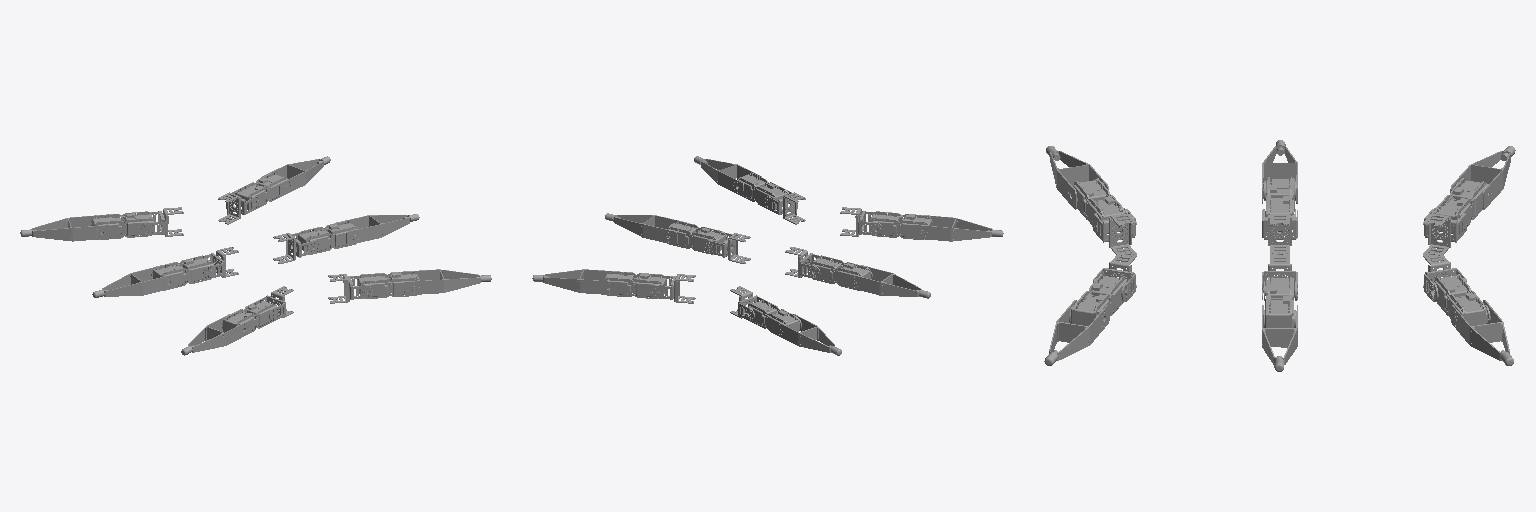
robot.urdf — hexapod:
<?xml version="1.0"?>
<robot name="hexapod">

<link name="base_link"/>
<joint name="base_link_to_hexapod_joint" type="fixed">
	<parent link="base_link"/>
	<child link="hexapod_link"/>
</joint>
	<link name="hexapod_link">
 		<visual>
			<geometry>
				<mesh filename="package://akrobat/stl/hexapod_link.stl"/>
			</geometry>
			<origin rpy="0 0 0" xyz="0 0 0"/>
			<material name="grey">
				<color rgba="0.67 0.67 0.67 1"/>
			</material>
		</visual>

	</link>
<!-- links-->
<!--.....................leg 1......................-->
	<link name="1_coxa_link">
 		<visual>
			<geometry>
				<mesh filename="package://akrobat/stl/coxa_l_link.stl"/>
			</geometry>
			<origin rpy="0 0 0" xyz="0 0 0"/>
			<material name="grey">
				<color rgba="0.67 0.67 0.67 1"/>
			</material>
		</visual>
	</link>
	<joint name="m11" type="revolute">
		<parent link="hexapod_link"/>
		<child link="1_coxa_link"/>
		<origin xyz="-0.051 0.217 0.0" rpy="0 0 2.791"/>
		<axis xyz="0 0 1"/>
		<limit effort="1000.0" lower="-0.548" upper="0.548" velocity="0.5"/>
	</joint>
	<link name="1_femur_link">
 		<visual>
			<geometry>
				<mesh filename="package://akrobat/stl/femur_link.stl"/>
			</geometry>
			<origin rpy="0 0 0" xyz="0 0 0"/>
			<material name="grey">
				<color rgba="0.67 0.67 0.67 1"/>
			</material>
		</visual>
	</link>
	<joint name="m12" type="revolute">
		<parent link="1_coxa_link"/>
		<child link="1_femur_link"/>
		<origin xyz="0.07 0.0 0.0" rpy="3.14 0 0"/>
		<axis xyz="0 1 0"/>
		<limit effort="1000.0" lower="-1.57" upper="1.57" velocity="0.5"/>
	</joint>
	<link name="1_tibia_link">
 		<visual>
			<geometry>
				<mesh filename="package://akrobat/stl/tibia_link.stl"/>
			</geometry>
			<origin rpy="0 0 0" xyz="0 0 0"/>
			<material name="grey">
				<color rgba="0.67 0.67 0.67 1"/>
			</material>
		</visual>
	</link>
	<joint name="m13" type="revolute">
		<parent link="1_femur_link"/>
		<child link="1_tibia_link"/>
		<origin xyz="0.096 0.0 0.0" rpy="0 -1.57 0"/>
		<axis xyz="0 1 0"/>
		<limit effort="1000.0" lower="-1.57" upper="1.57" velocity="0.5"/>
	</joint>
<!-- rechts-->
<!--..................leg 2...................-->
	<link name="2_coxa_link">
 		<visual>
			<geometry>
				<mesh filename="package://akrobat/stl/coxa_r_link.stl"/>
			</geometry>
			<origin rpy="0 0 0" xyz="0 0 0"/>
			<material name="grey">
				<color rgba="0.67 0.67 0.67 1"/>
			</material>
		</visual>
	</link>
	<joint name="m21" type="revolute">
		<parent link="hexapod_link"/>
		<child link="2_coxa_link"/>
		<origin xyz="0.051 0.217 0.0" rpy="0 0 3.489"/>
		<axis xyz="0 0 1"/>
		<limit effort="1000.0" lower="-0.548" upper="0.548" velocity="0.5"/>
	</joint>
 	<link name="2_femur_link">
 		<visual>
			<geometry>
				<mesh filename="package://akrobat/stl/femur_link.stl"/>
			</geometry>
			<origin rpy="0 0 0" xyz="0 0 0"/>
			<material name="grey">
				<color rgba="0.67 0.67 0.67 1"/>
			</material>
		</visual>
	</link>
	<joint name="m22" type="revolute">
		<parent link="2_coxa_link"/>
		<child link="2_femur_link"/>
		<origin xyz="-0.07 0.0 0.0" rpy="0 3.14 0"/>
		<axis xyz="0 1 0"/>
		<limit effort="1000.0" lower="-1.57" upper="1.57" velocity="0.5"/>
	</joint>
	<link name="2_tibia_link">
 		<visual>
			<geometry>
				<mesh filename="package://akrobat/stl/tibia_link.stl"/>
			</geometry>
			<origin rpy="0 0 0" xyz="0 0 0"/>
			<material name="grey">
				<color rgba="0.67 0.67 0.67 1"/>
			</material>
		</visual>
	</link>
	<joint name="m23" type="revolute">
		<parent link="2_femur_link"/>
		<child link="2_tibia_link"/>
		<origin xyz="0.096 0.0 0.0" rpy="0 -1.57 0"/>
		<axis xyz="0 1 0"/>
		<limit effort="1000.0" lower="-1.57" upper="1.57" velocity="0.5"/>
	</joint>
<!-- links-->
<!--.................. leg 3.......................-->
	<link name="3_coxa_link">
 		<visual>
			<geometry>
				<mesh filename="package://akrobat/stl/coxa_l_link.stl"/>
			</geometry>
			<origin rpy="0 0 0" xyz="0 0 0"/>
			<material name="grey">
				<color rgba="0.67 0.67 0.67 1"/>
			</material>
		</visual>
	</link>
	<joint name="m31" type="revolute">
		<parent link="hexapod_link"/>
		<child link="3_coxa_link"/>
		<origin xyz="-0.051 0.0 0.0" rpy="0 0 3.14"/>
		<axis xyz="0 0 1"/>
		<limit effort="1000.0" lower="-0.548" upper="0.548" velocity="0.5"/>
	</joint>
	<link name="3_femur_link">
 		<visual>
			<geometry>
				<mesh filename="package://akrobat/stl/femur_link.stl"/>
			</geometry>
			<origin rpy="0 0 0" xyz="0 0 0"/>
			<material name="grey">
				<color rgba="0.67 0.67 0.67 1"/>
			</material>
		</visual>
	</link>
	<joint name="m32" type="revolute">
		<parent link="3_coxa_link"/>
		<child link="3_femur_link"/>
		<origin xyz="0.07 0.0 0.0" rpy="3.14 0 0"/>
		<axis xyz="0 1 0"/>
		<limit effort="1000.0" lower="-1.57" upper="1.57" velocity="0.5"/>
	</joint>
	<link name="3_tibia_link">
 		<visual>
			<geometry>
				<mesh filename="package://akrobat/stl/tibia_link.stl"/>
			</geometry>
			<origin rpy="0 0 0" xyz="0 0 0"/>
			<material name="grey">
				<color rgba="0.67 0.67 0.67 1"/>
			</material>
		</visual>
	</link>
	<joint name="m33" type="revolute">
		<parent link="3_femur_link"/>
		<child link="3_tibia_link"/>
		<origin xyz="0.096 0.0 0.0" rpy="0 -1.57 0"/>
		<axis xyz="0 1 0"/>
		<limit effort="1000.0" lower="-1.57" upper="1.57" velocity="0.5"/>
	</joint>
<!-- rechts-->
<!--..................leg 4...................-->
	<link name="4_coxa_link">
 		<visual>
			<geometry>
				<mesh filename="package://akrobat/stl/coxa_r_link.stl"/>
			</geometry>
			<origin rpy="0 0 0" xyz="0 0 0"/>
			<material name="grey">
				<color rgba="0.67 0.67 0.67 1"/>
			</material>
		</visual>
	</link>
	<joint name="m41" type="revolute">
		<parent link="hexapod_link"/>
		<child link="4_coxa_link"/>
		<origin xyz="0.051 0.0 0.0" rpy="0 0 3.14"/>
		<axis xyz="0 0 1"/>
		<limit effort="1000.0" lower="-0.548" upper="0.548" velocity="0.5"/>
	</joint>
	<link name="4_femur_link">
 		<visual>
			<geometry>
				<mesh filename="package://akrobat/stl/femur_link.stl"/>
			</geometry>
			<origin rpy="0 0 0" xyz="0 0 0"/>
			<material name="grey">
				<color rgba="0.67 0.67 0.67 1"/>
			</material>
		</visual>
	</link>
	<joint name="m42" type="revolute">
		<parent link="4_coxa_link"/>
		<child link="4_femur_link"/>
		<origin xyz="-0.07 0.0 0.0" rpy="0 3.14 0"/>
		<axis xyz="0 1 0"/>
		<limit effort="1000.0" lower="-1.57" upper="1.57" velocity="0.5"/>
	</joint>
	<link name="4_tibia_link">
 		<visual>
			<geometry>
				<mesh filename="package://akrobat/stl/tibia_link.stl"/>
			</geometry>
			<origin rpy="0 0 0" xyz="0 0 0"/>
			<material name="grey">
				<color rgba="0.67 0.67 0.67 1"/>
			</material>
		</visual>
	</link>
	<joint name="m43" type="revolute">
		<parent link="4_femur_link"/>
		<child link="4_tibia_link"/>
		<origin xyz="0.096 0.0 0.0" rpy="0 -1.57 0"/>
		<axis xyz="0 1 0"/>
		<limit effort="1000.0" lower="-1.57" upper="1.57" velocity="0.5"/>
	</joint>
<!-- links-->
<!--..................leg 5...................-->
	<link name="5_coxa_link">
 		<visual>
			<geometry>
				<mesh filename="package://akrobat/stl/coxa_l_link.stl"/>
			</geometry>
			<origin rpy="0 0 0" xyz="0 0 0"/>
			<material name="grey">
				<color rgba="0.67 0.67 0.67 1"/>
			</material>
		</visual>
	</link>
	<joint name="m51" type="revolute">
		<parent link="hexapod_link"/>
		<child link="5_coxa_link"/>
		<origin xyz="-0.051 -0.217 0.0" rpy="0 0 3.489"/>
		<axis xyz="0 0 1"/>
		<limit effort="1000.0" lower="-0.548" upper="0.548" velocity="0.5"/>
	</joint>
	<link name="5_femur_link">
 		<visual>
			<geometry>
				<mesh filename="package://akrobat/stl/femur_link.stl"/>
			</geometry>
			<origin rpy="0 0 0" xyz="0 0 0"/>
			<material name="grey">
				<color rgba="0.67 0.67 0.67 1"/>
			</material>
		</visual>
	</link>
	<joint name="m52" type="revolute">
		<parent link="5_coxa_link"/>
		<child link="5_femur_link"/>
		<origin xyz="0.07 0.0 0.0" rpy="3.14 0 0"/>
		<axis xyz="0 1 0"/>
		<limit effort="1000.0" lower="-1.57" upper="1.57" velocity="0.5"/>
	</joint>
	<link name="5_tibia_link">
 		<visual>
			<geometry>
				<mesh filename="package://akrobat/stl/tibia_link.stl"/>
			</geometry>
			<origin rpy="0 0 0" xyz="0 0 0"/>
			<material name="grey">
				<color rgba="0.67 0.67 0.67 1"/>
			</material>
		</visual>
	</link>
	<joint name="m53" type="revolute">
		<parent link="5_femur_link"/>
		<child link="5_tibia_link"/>
		<origin xyz="0.096 0.0 0.0" rpy="0 -1.57 0"/>
		<axis xyz="0 1 0"/>
		<limit effort="1000.0" lower="-1.57" upper="1.57" velocity="0.5"/>
	</joint>

<!-- rechts-->
<!--..................leg 6...................-->
	<link name="6_coxa_link">
 		<visual>
			<geometry>
				<mesh filename="package://akrobat/stl/coxa_r_link.stl"/>
			</geometry>
			<origin rpy="0 0 0" xyz="0 0 0"/>
			<material name="grey">
				<color rgba="0.67 0.67 0.67 1"/>
			</material>
		</visual>
	</link>
	<joint name="m61" type="revolute">
		<parent link="hexapod_link"/>
		<child link="6_coxa_link"/>
		<origin xyz="0.051 -0.217 0.0" rpy="0 0 2.791"/>
		<axis xyz="0 0 1"/>
		<limit effort="1000.0" lower="-0.548" upper="0.548" velocity="0.5"/>
	</joint>
	<link name="6_femur_link">
 		<visual>
			<geometry>
				<mesh filename="package://akrobat/stl/femur_link.stl"/>
			</geometry>
			<origin rpy="0 0 0" xyz="0 0 0"/>
			<material name="grey">
				<color rgba="0.67 0.67 0.67 1"/>
			</material>
		</visual>
	</link>
	<joint name="m62" type="revolute">
		<parent link="6_coxa_link"/>
		<child link="6_femur_link"/>
		<origin xyz="-0.07 0.0 0.0" rpy="0 3.14 0"/>
		<axis xyz="0 1 0"/>
		<limit effort="1000.0" lower="-1.57" upper="1.57" velocity="0.5"/>
	</joint>
	<link name="6_tibia_link">
 		<visual>
			<geometry>
				<mesh filename="package://akrobat/stl/tibia_link.stl"/>
			</geometry>
			<origin rpy="0 0 0" xyz="0 0 0"/>
			<material name="grey">
				<color rgba="0.67 0.67 0.67 1"/>
			</material>
		</visual>
	</link>
	<joint name="m63" type="revolute">
		<parent link="6_femur_link"/>
		<child link="6_tibia_link"/>
		<origin xyz="0.096 0.0 0.0" rpy="0 -1.57 0"/>
		<axis xyz="0 1 0"/>
		<limit effort="1000.0" lower="-1.57" upper="1.57" velocity="0.5"/>
	</joint>
</robot>

--- Render facts (derived) ---
The picture shows the robot from 3 angles, left to right: view 1: azimuth 30°, elevation 25°; view 2: azimuth 150°, elevation 25°; view 3: azimuth 270°, elevation 25°; orthographic projection.
Model hexapod with 20 links and 19 joints (18 revolute, 1 fixed), rooted at base_link, posed all joints at 0.
Links seen in each view (by area): view 1: 1_tibia_link, 6_tibia_link, 3_tibia_link, 4_tibia_link, 6_femur_link, 1_femur_link, 5_tibia_link, 4_femur_link, 3_femur_link, 2_tibia_link, 5_femur_link, 2_femur_link (+5 smaller); view 2: 5_tibia_link, 2_tibia_link, 3_tibia_link, 4_tibia_link, 2_femur_link, 5_femur_link, 1_tibia_link, 4_femur_link, 3_femur_link, 6_tibia_link, 1_femur_link, 6_femur_link (+5 smaller); view 3: 6_femur_link, 2_femur_link, 6_tibia_link, 2_tibia_link, 4_femur_link, 1_femur_link, 5_femur_link, 1_tibia_link, 5_tibia_link, 1_coxa_link, 5_coxa_link, 3_femur_link (+6 smaller).
Link boxes in pixels (x1,y1,x2,y2): 1_tibia_link: [20, 215, 111, 241]; 6_tibia_link: [403, 269, 491, 294]; 3_tibia_link: [92, 265, 177, 297]; 4_tibia_link: [336, 214, 419, 244]; 6_femur_link: [357, 271, 419, 298]; 1_femur_link: [91, 211, 153, 239]; 5_tibia_link: [181, 314, 250, 355]; 4_femur_link: [296, 221, 358, 254]; 3_femur_link: [151, 255, 214, 290]; 2_tibia_link: [261, 156, 330, 196]; 5_femur_link: [222, 299, 276, 332]; 2_femur_link: [235, 173, 287, 209]; 5_tibia_link: [912, 215, 1003, 241]; 2_tibia_link: [532, 269, 618, 294]; 3_tibia_link: [846, 265, 930, 298]; 4_tibia_link: [605, 213, 686, 244]; 2_femur_link: [604, 271, 666, 298]; 5_femur_link: [870, 211, 932, 239]; 1_tibia_link: [773, 314, 841, 355]; 4_femur_link: [665, 220, 727, 254]; 3_femur_link: [810, 255, 872, 290]; 6_tibia_link: [694, 156, 761, 196]; 1_femur_link: [748, 299, 801, 337]; 6_femur_link: [736, 172, 788, 210]; 6_femur_link: [1069, 274, 1128, 325]; 2_femur_link: [1433, 274, 1490, 325]; 6_tibia_link: [1044, 300, 1109, 365]; 2_tibia_link: [1451, 300, 1513, 365]; 4_femur_link: [1264, 277, 1297, 327]; 1_femur_link: [1432, 178, 1489, 233]; 5_femur_link: [1071, 178, 1127, 233]; 1_tibia_link: [1450, 146, 1515, 209]; 5_tibia_link: [1046, 146, 1108, 209]; 1_coxa_link: [1423, 209, 1466, 254]; 5_coxa_link: [1093, 209, 1136, 254]; 3_femur_link: [1263, 177, 1295, 231].
Size in the robot's own frame: 0.7588 by 0.6712 by 0.0512 metres.
Meshes: 5 distinct files referenced, 18 mesh visuals loaded (4 binary STL); not drawn: 1 (reference not matched to a file when rendering).